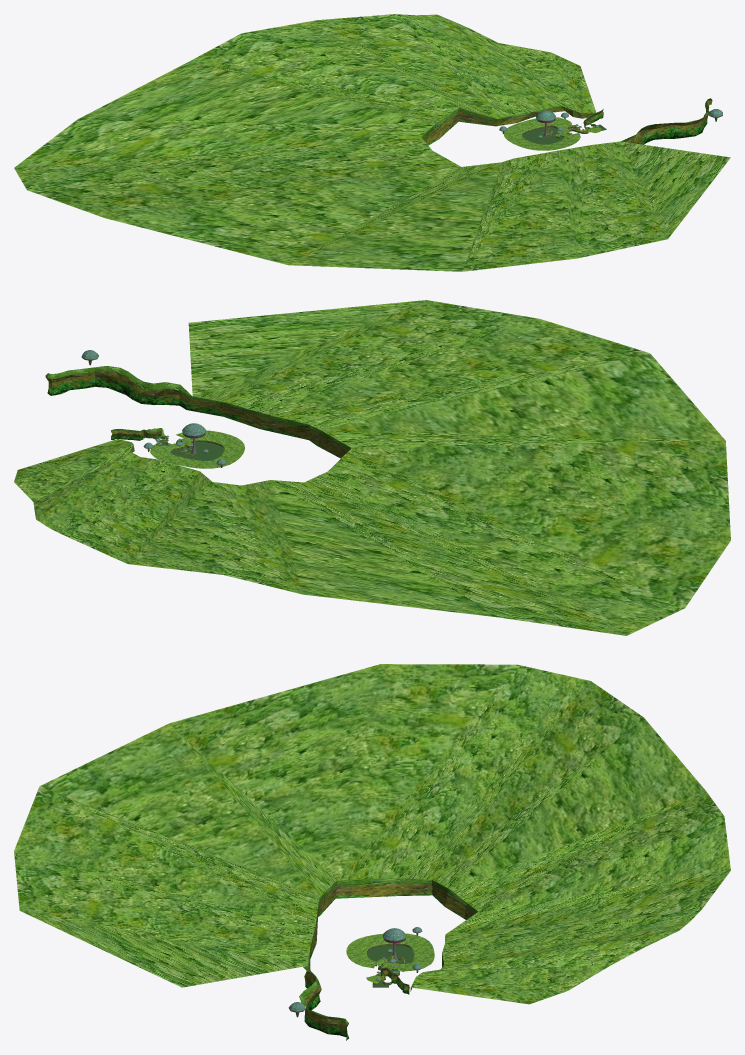
The model's file is Lost Jungle 9.obj.
The picture shows the model from 3 angles, top to bottom: view 1: azimuth 30°, elevation 25°; view 2: azimuth 150°, elevation 25°; view 3: azimuth 270°, elevation 25°; orthographic projection. The views are drawn at different scales.
Parts seen in each view (by area): view 1: Object_2.001, Object_2; view 2: Object_2.001, Object_2; view 3: Object_2.001, Object_2.
Part boxes in pixels (x1,y1,x2,y2): Object_2.001: [14, 14, 730, 271]; Object_2: [522, 124, 606, 144]; Object_2.001: [14, 300, 730, 635]; Object_2: [143, 436, 223, 460]; Object_2.001: [14, 664, 730, 1040]; Object_2: [366, 945, 413, 987].
Bounding box in the file's own units: 76599 × 4951 × 65885.
21 materials, 21 textured.
